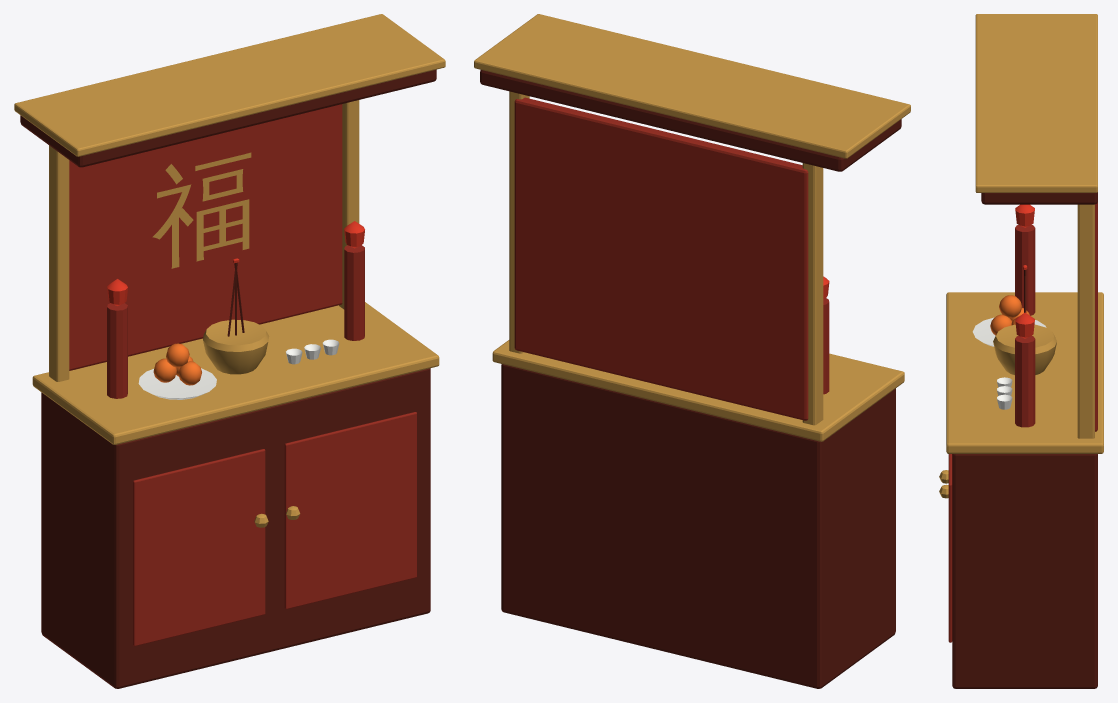
File: altar.glb
The picture shows the model from 3 angles, left to right: view 1: azimuth 30°, elevation 25°; view 2: azimuth 150°, elevation 25°; view 3: azimuth 270°, elevation 25°; orthographic projection. The views are drawn at different scales.
Parts seen in each view (by area): view 1: altar; view 2: altar; view 3: altar.
Part boxes in pixels (x1,y1,x2,y2): altar: (14, 14, 445, 688); altar: (474, 14, 910, 688); altar: (939, 14, 1103, 688).
Bounding box in the file's own units: 1.4 × 1.96 × 0.565.
